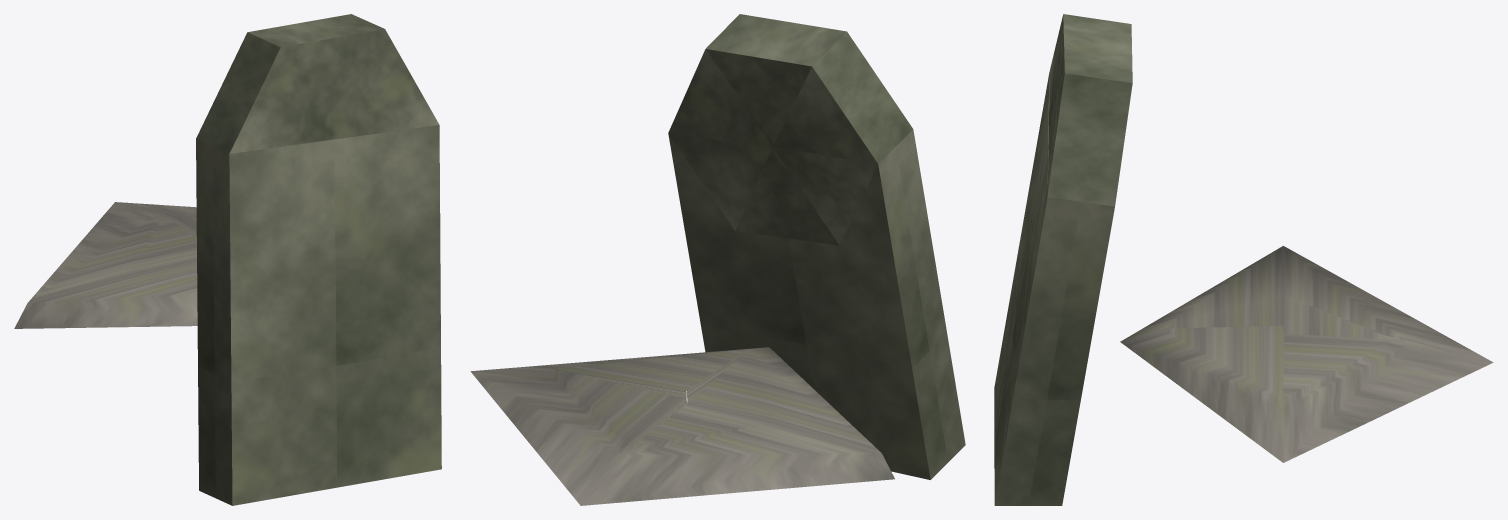
Rendered from Grave_Stone_Old_1_LOD1.gltf.
3 views of the same model, side by side, from view 1: azimuth 30°, elevation 25°; view 2: azimuth 150°, elevation 25°; view 3: azimuth 270°, elevation 25° (orthographic).
Parts seen in each view (by area): view 1: Grave_Stone_Old_1_LOD1; view 2: Grave_Stone_Old_1_LOD1; view 3: Grave_Stone_Old_1_LOD1.
Part boxes in pixels (left/top/right/bottom): Grave_Stone_Old_1_LOD1: left=14, top=14, right=441, bottom=505; Grave_Stone_Old_1_LOD1: left=470, top=14, right=965, bottom=505; Grave_Stone_Old_1_LOD1: left=994, top=14, right=1493, bottom=505.
Bounding box in the file's own units: 1.13 × 1.11 × 1.16.
2 materials, 2 textured.
